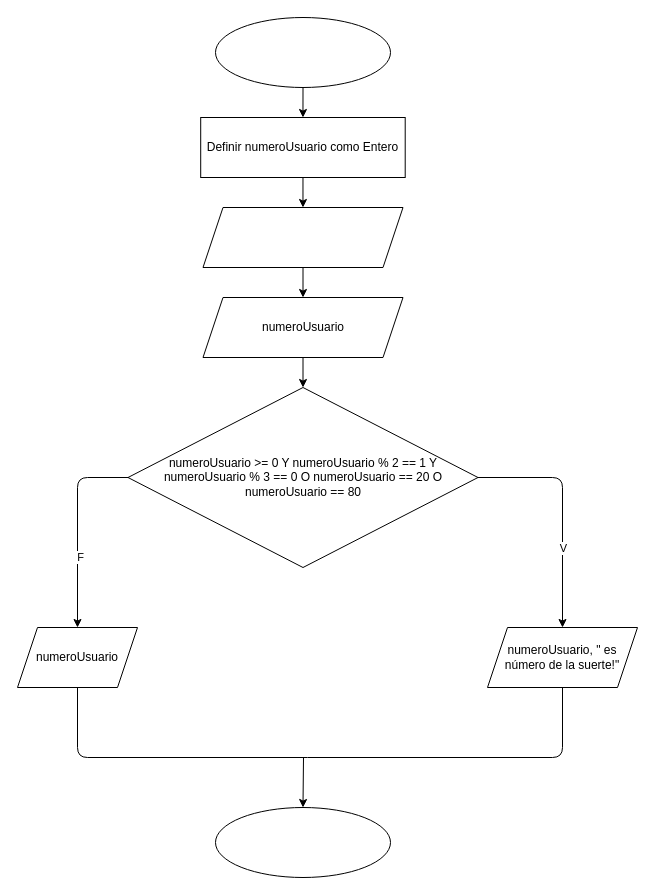
Image size: 655x895. Some labels were removed from this diagram. Here are the shapes that lost their labels. From the top down, the box of each, then its label:
(214, 16, 390, 88): Algoritmo Ejercicio4
(202, 206, 403, 268): "Ingrese un número: "
(214, 806, 390, 878): FinAlgoritmo
